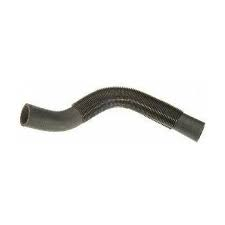radiator_hose: (21, 87, 203, 142)
